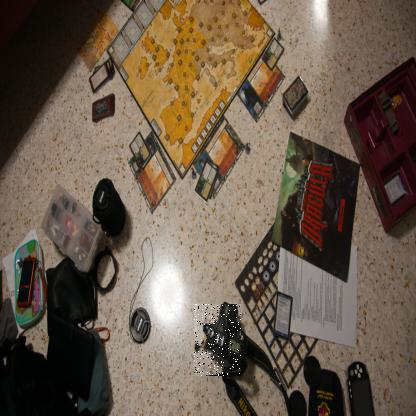Camera: (195, 305, 243, 378)
